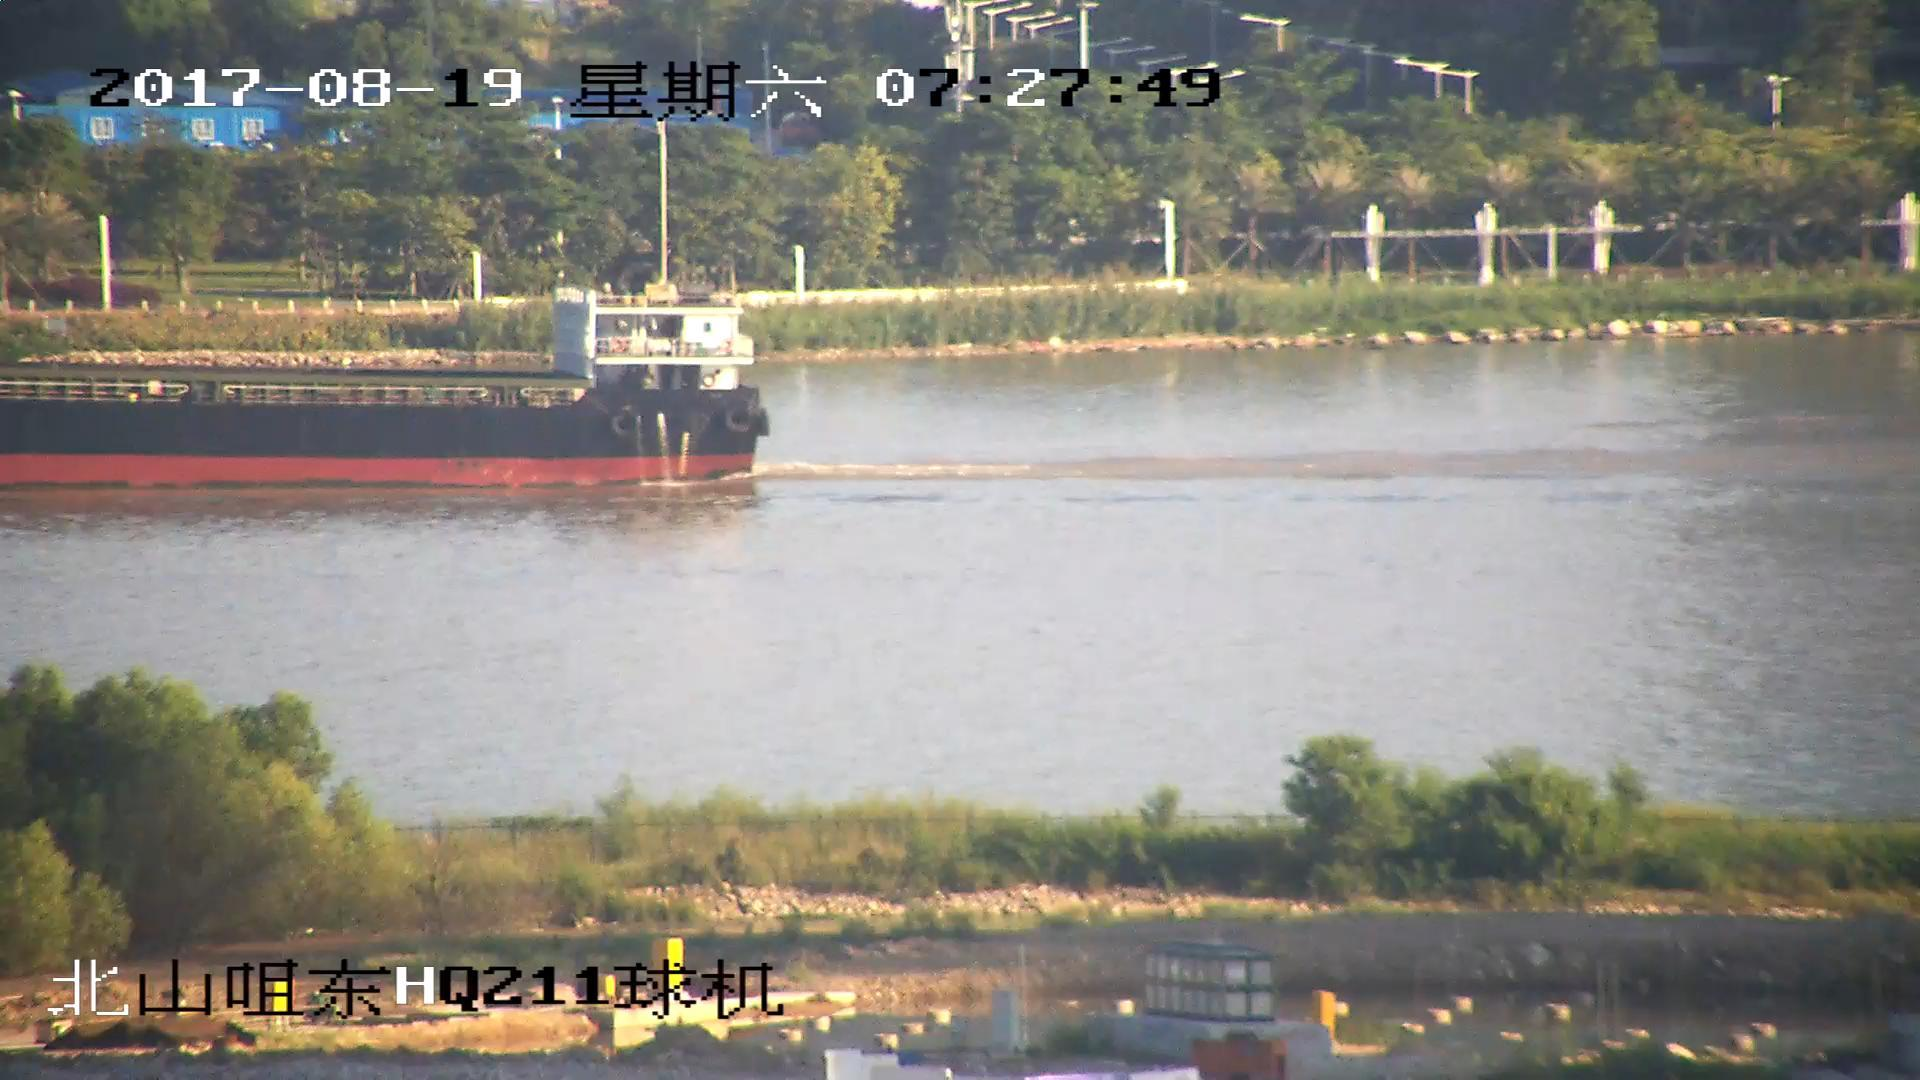Ship: (3, 287, 766, 497)
